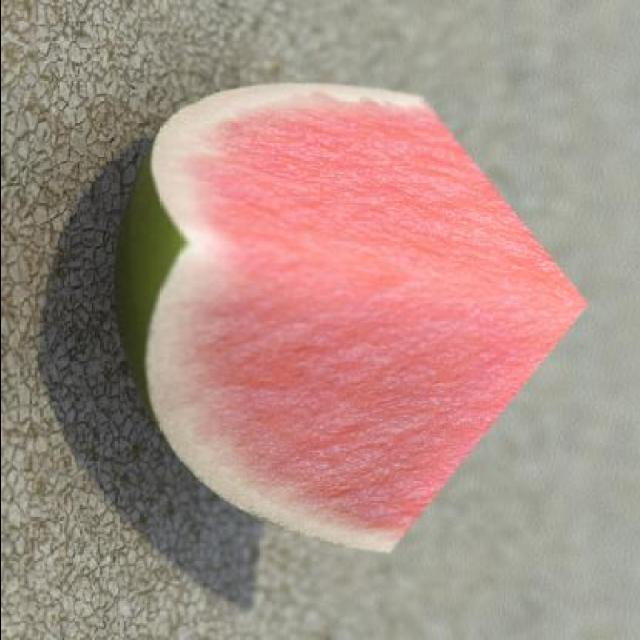Watermelon: (114, 79, 588, 552)
